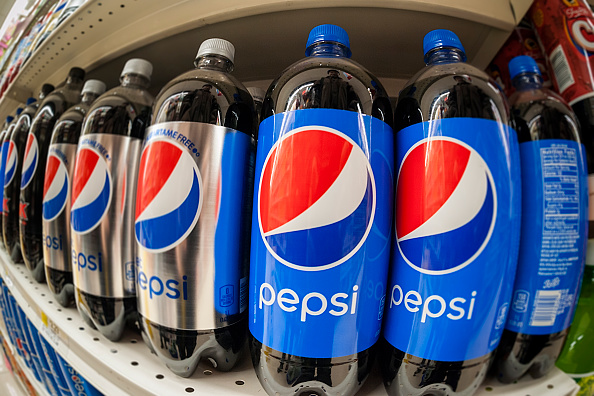pepsi: (256, 124, 376, 270), (260, 124, 376, 270), (260, 127, 376, 270), (395, 134, 496, 275), (132, 138, 203, 252), (69, 145, 111, 233), (43, 153, 66, 218), (17, 131, 38, 189), (1, 138, 16, 186), (25, 131, 38, 184), (5, 138, 16, 184)
